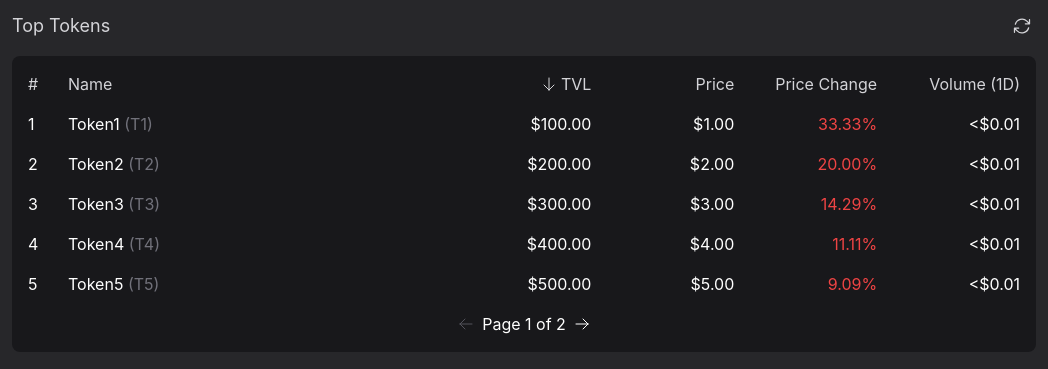
Test case: TokenTable › Token table pagination works
The width and height of the screenshot is (1048, 369).
Expected: the text "Token1" is shown, [68,114,124,134]
Expected: the text "(T1)" is shown, [124,114,153,134]
Click the icon with test id "token-right-arrow". click: (582, 324)
box: [574,316,590,332]
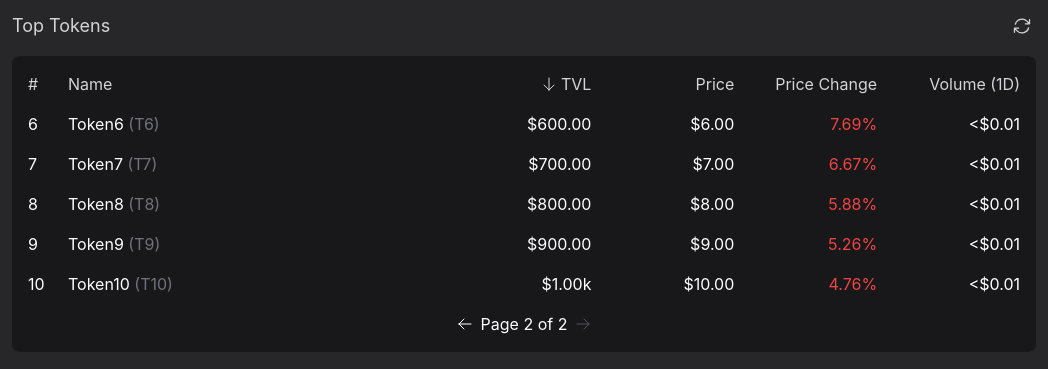
Expected: the text "(T1)" is not shown
Expected: the text "Token6" is shown, [68,114,128,134]
Expected: the text "(T6)" is shown, [128,114,160,134]
